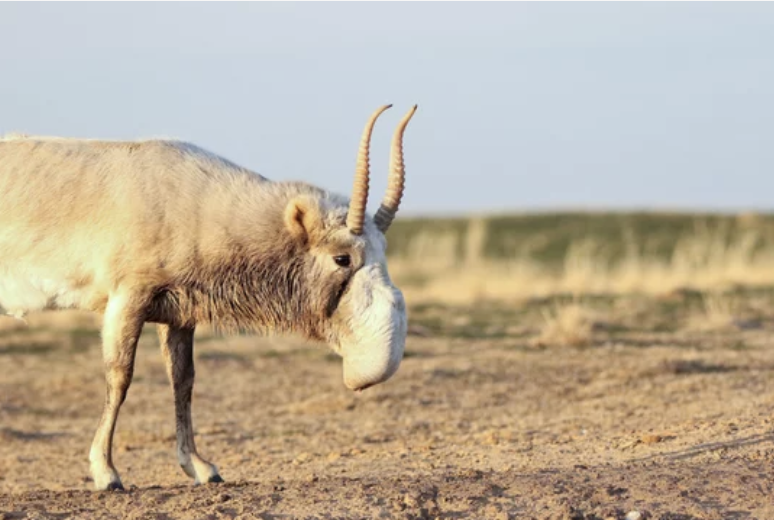saiga: (1, 106, 439, 484)
